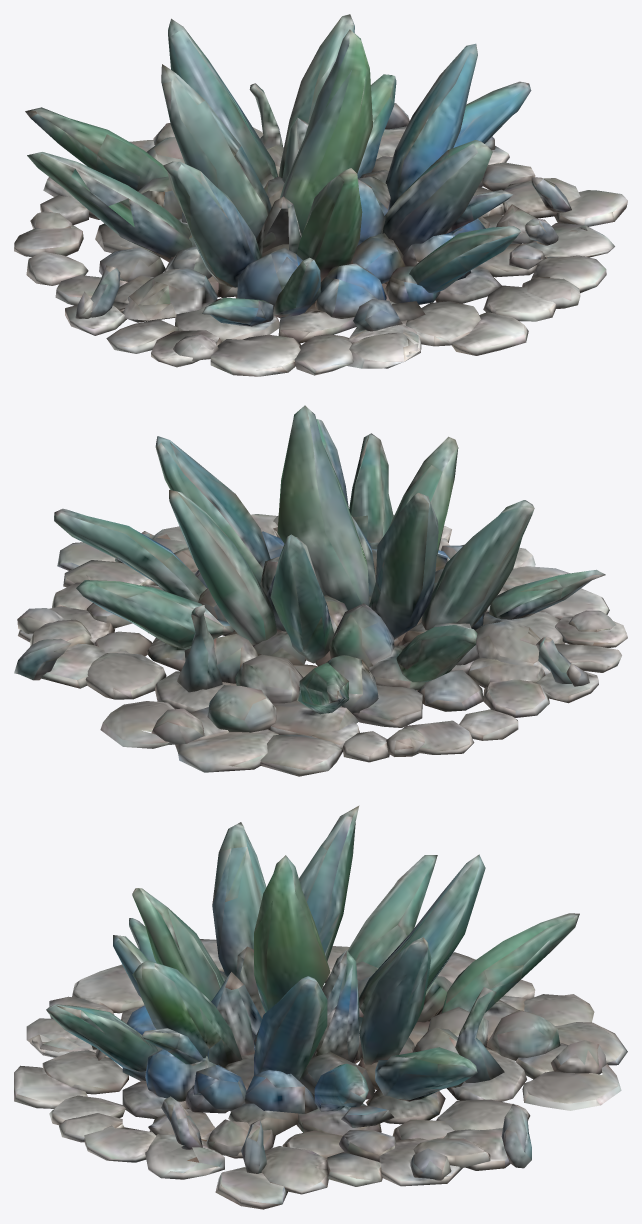
Rendered from jd_cristal_g.glb.
3 views of the same model, one above another, from view 1: azimuth 30°, elevation 25°; view 2: azimuth 150°, elevation 25°; view 3: azimuth 270°, elevation 25° (orthographic).
Visible parts, largest first — view 1: mesh_node.005; view 2: mesh_node.005; view 3: mesh_node.005.
Part boxes in pixels (left/top/right/bottom): mesh_node.005: left=14, top=14, right=627, bottom=376; mesh_node.005: left=14, top=405, right=627, bottom=776; mesh_node.005: left=14, top=805, right=627, bottom=1209.
Size of the model in its own units: 0.3853 by 0.1553 by 0.375.
1 material, 1 textured.
